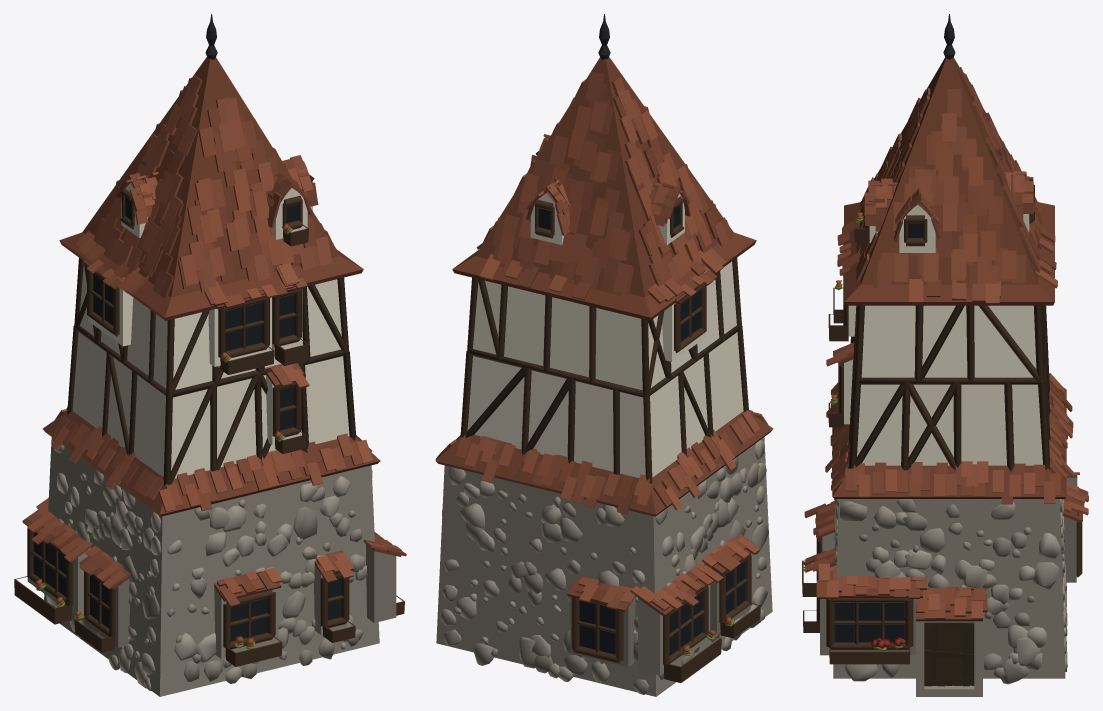
The model's file is tower_square_01.glb.
3 renders of one model, left to right at view 1: azimuth 30°, elevation 25°; view 2: azimuth 150°, elevation 25°; view 3: azimuth 270°, elevation 25°, orthographic.
Visible parts, largest first — view 1: landmark_tower_square_01; view 2: landmark_tower_square_01; view 3: landmark_tower_square_01.
Part boxes in pixels (left/top/right/bottom): landmark_tower_square_01: left=14, top=14, right=406, bottom=696; landmark_tower_square_01: left=435, top=14, right=773, bottom=696; landmark_tower_square_01: left=802, top=14, right=1088, bottom=696.
Bounding box in the file's own units: 5.67 × 12.16 × 5.08.
